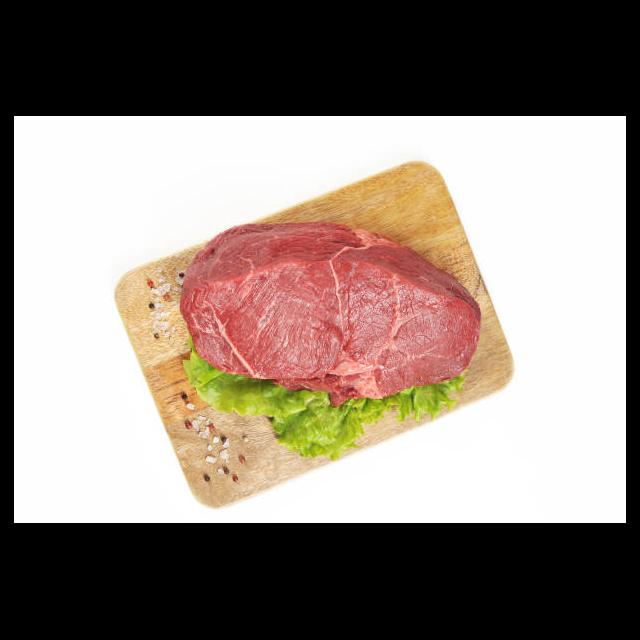beef: (179, 222, 481, 408)
